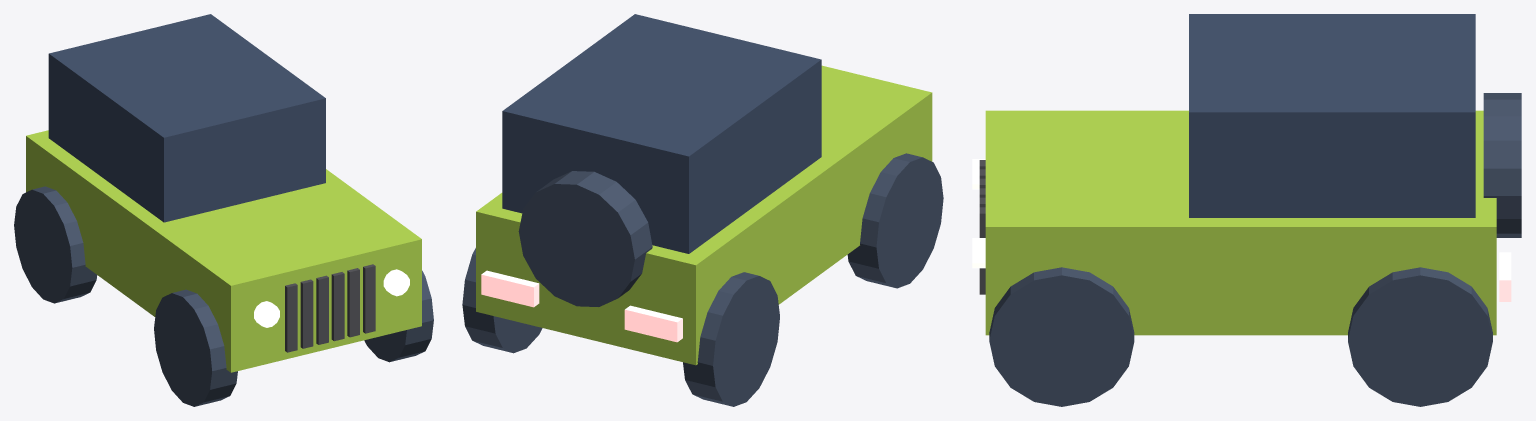
File: jimny.glb
3 views of the same model, side by side, from view 1: azimuth 30°, elevation 25°; view 2: azimuth 150°, elevation 25°; view 3: azimuth 270°, elevation 25° (orthographic). The views are drawn at different scales.
Parts seen in each view (by area): view 1: cabin, chassis, wheel_4, wheel_2, mesh (×6), wheel_1, headlight_2, headlight_1; view 2: cabin, chassis, wheel_0, wheel_4, wheel_2, wheel_3, taillight_0, taillight_1; view 3: chassis, cabin, wheel_1, wheel_3, wheel_0, taillight_1.
Part boxes in pixels (left/top/right/bottom): cabin: left=48, top=14, right=325, bottom=222; chassis: left=26, top=130, right=421, bottom=372; wheel_4: left=154, top=289, right=237, bottom=406; wheel_2: left=14, top=186, right=97, bottom=303; mesh (×6): left=285, top=264, right=375, bottom=352; wheel_1: left=364, top=270, right=433, bottom=362; headlight_2: left=383, top=269, right=409, bottom=296; headlight_1: left=254, top=301, right=279, bottom=327; cabin: left=502, top=14, right=821, bottom=253; chassis: left=476, top=65, right=932, bottom=365; wheel_0: left=518, top=171, right=652, bottom=306; wheel_4: left=847, top=153, right=943, bottom=288; wheel_2: left=683, top=272, right=779, bottom=406; wheel_3: left=462, top=248, right=542, bottom=353; taillight_0: left=624, top=305, right=682, bottom=342; taillight_1: left=481, top=270, right=539, bottom=307; chassis: left=985, top=110, right=1496, bottom=335; cabin: left=1189, top=14, right=1475, bottom=217; wheel_1: left=989, top=267, right=1134, bottom=406; wheel_3: left=1348, top=267, right=1492, bottom=406; wheel_0: left=1483, top=93, right=1521, bottom=237; taillight_1: left=1499, top=252, right=1511, bottom=301.
Size of the model in its own units: 2.63 by 2.56 by 4.6.
